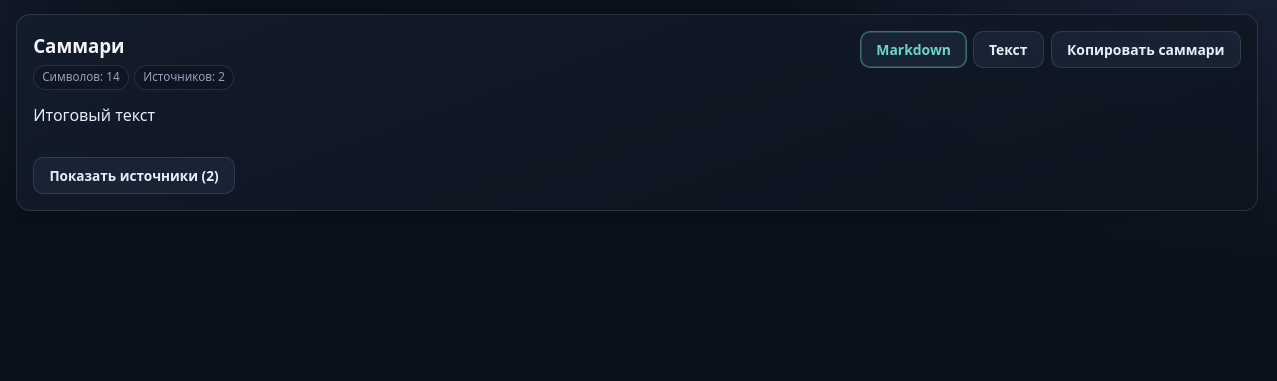
SummaryPanel smoke › deduplicates repeated source rows
Click the button "Показать источники (2)" at {"x": 134, "y": 175}, box x1=33 y1=157 x2=235 y2=194
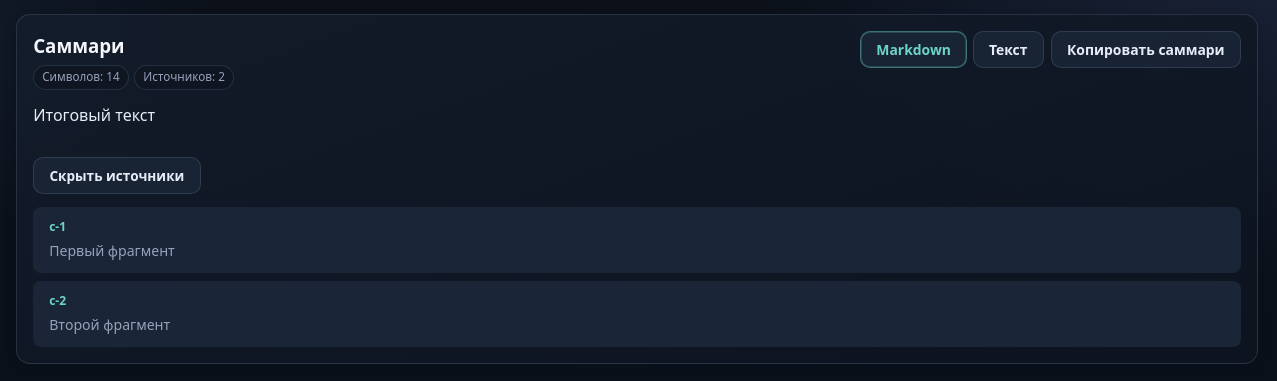
Result: the number of list items is 2 at x1=33 y1=207 x2=1241 y2=273; x1=33 y1=280 x2=1241 y2=346
